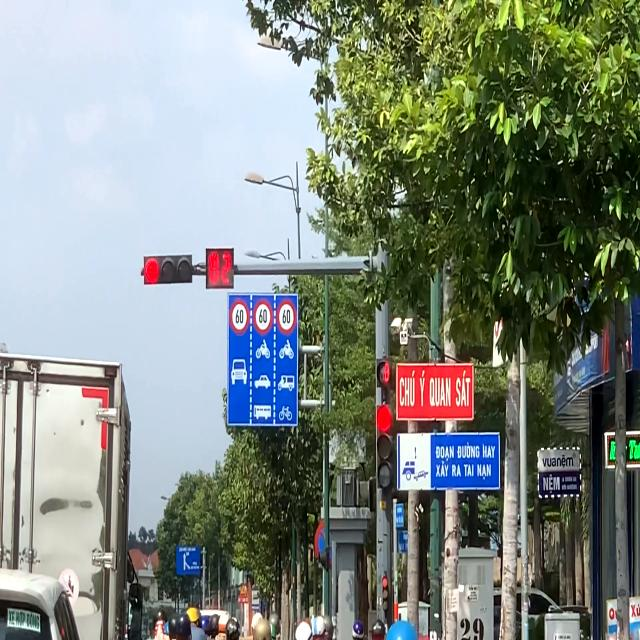P.127: (252, 299, 274, 337), (230, 300, 250, 336), (277, 298, 296, 335)
